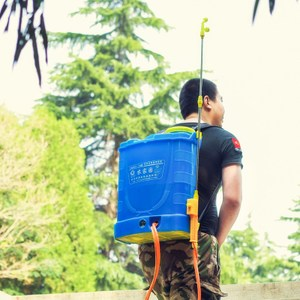berrl: (115, 128, 201, 244)
